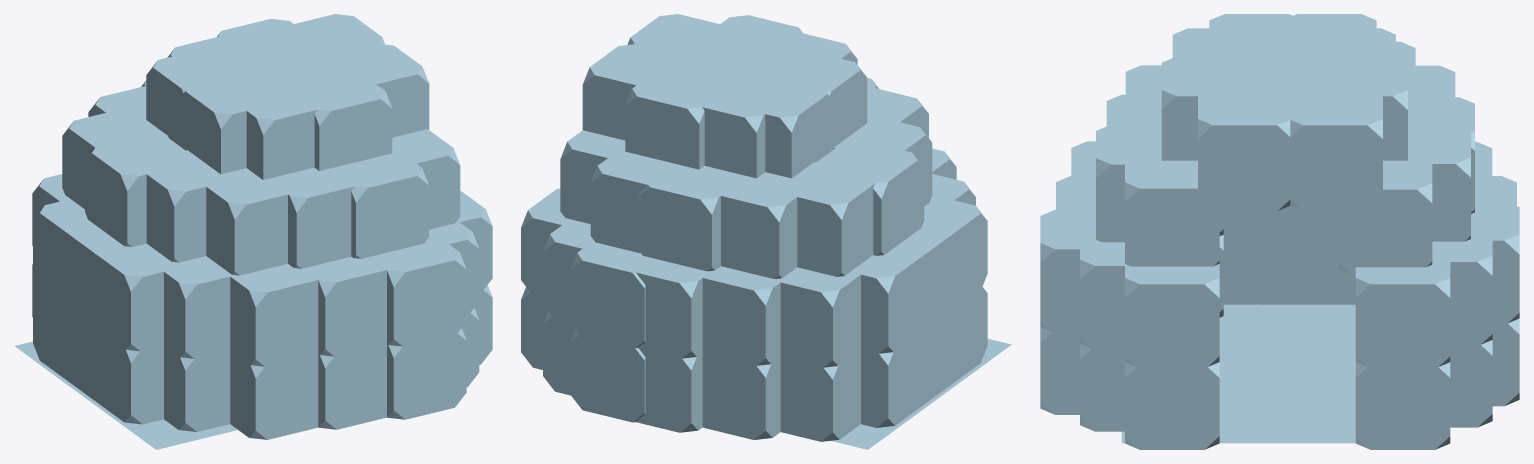
File: igloo.fbx
3 renders of one model, left to right at view 1: azimuth 30°, elevation 25°; view 2: azimuth 150°, elevation 25°; view 3: azimuth 270°, elevation 25°, orthographic. The views are drawn at different scales.
Visible parts, largest first — view 1: Igloo, Igloo.001, Plane, Plane.001; view 2: Igloo, Igloo.001, Plane, Plane.001; view 3: Igloo, Igloo.001, Plane, Plane.001.
Part boxes in pixels (x1=…): Igloo: x1=32, y1=14, x2=492, y2=439; Igloo.001: x1=32, y1=14, x2=492, y2=439; Plane: x1=14, y1=341, x2=237, y2=449; Plane.001: x1=18, y1=342, x2=233, y2=447; Igloo: x1=521, y1=14, x2=987, y2=441; Igloo.001: x1=521, y1=14, x2=987, y2=441; Plane: x1=831, y1=339, x2=1011, y2=449; Plane.001: x1=832, y1=338, x2=1003, y2=449; Igloo: x1=1040, y1=14, x2=1519, y2=449; Igloo.001: x1=1040, y1=14, x2=1519, y2=449; Plane: x1=1121, y1=304, x2=1355, y2=443; Plane.001: x1=1121, y1=304, x2=1355, y2=443.
Bounding box in the file's own units: 927 × 730 × 1012.
